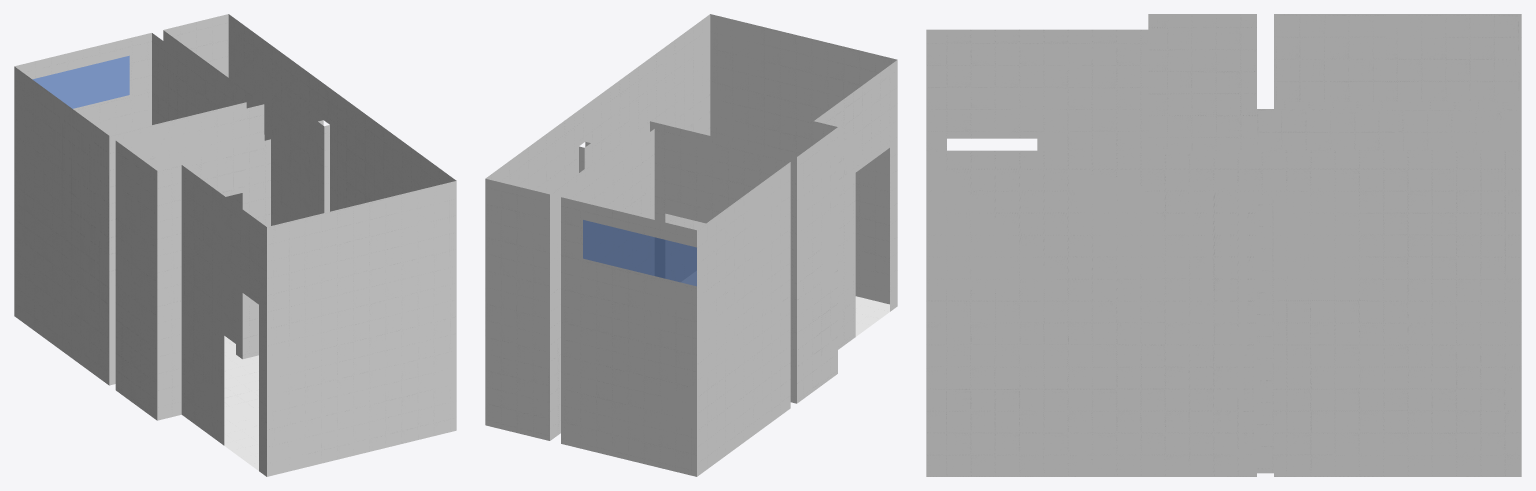
Rendered from COM006.obj.
3 views of the same model, side by side, from view 1: azimuth 30°, elevation 25°; view 2: azimuth 150°, elevation 25°; view 3: azimuth 270°, elevation 25° (orthographic). The views are drawn at different scales.
Parts seen in each view (by area): view 1: Mesh1 COM006 Model; view 2: Mesh1 COM006 Model; view 3: Mesh1 COM006 Model.
Part boxes in pixels (x1,y1,x2,y2): Mesh1 COM006 Model: (14, 14, 456, 476); Mesh1 COM006 Model: (485, 14, 897, 476); Mesh1 COM006 Model: (926, 14, 1521, 476).
Size of the model in its own units: 2.71 by 3.02 by 4.98.
3 materials, 1 textured.
